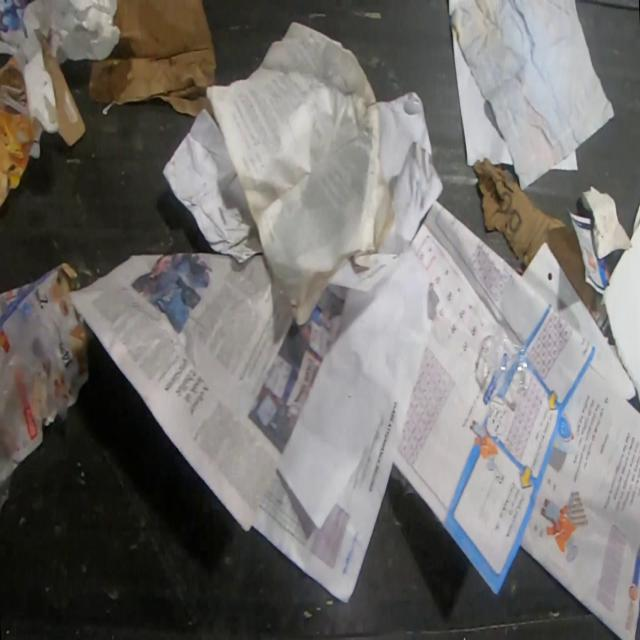cardboard: (472, 157, 598, 321), (0, 30, 88, 214)
rigid_plastic: (484, 317, 532, 409)
soft_plastic: (0, 300, 82, 520)
